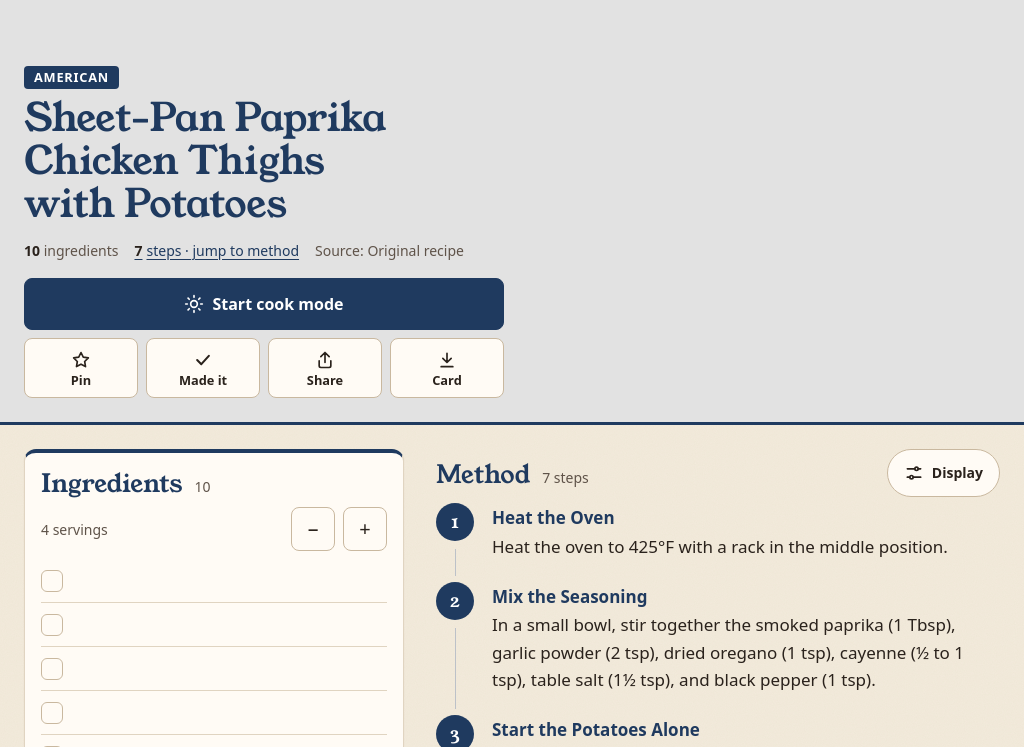
Test: RecipeView display settings › says step amounts are for the original recipe only while scaled with amounts on
Expected: the text "Amounts in steps are for the original recipe." is not shown
Click the button named "More servings".
click(365, 529)  # box x1=343 y1=507 x2=387 y2=551
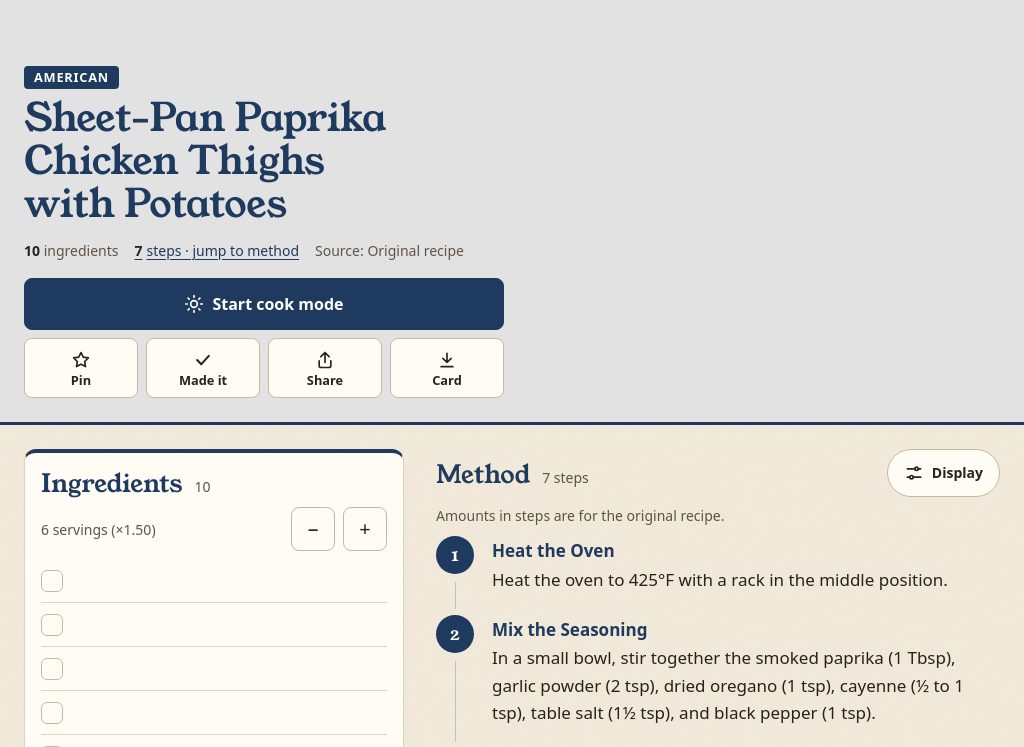
Expected: the text "Amounts in steps are for the original recipe." is shown, x1=436 y1=506 x2=724 y2=525
Click the button "Display".
click(943, 473)  # box x1=887 y1=449 x2=1000 y2=497
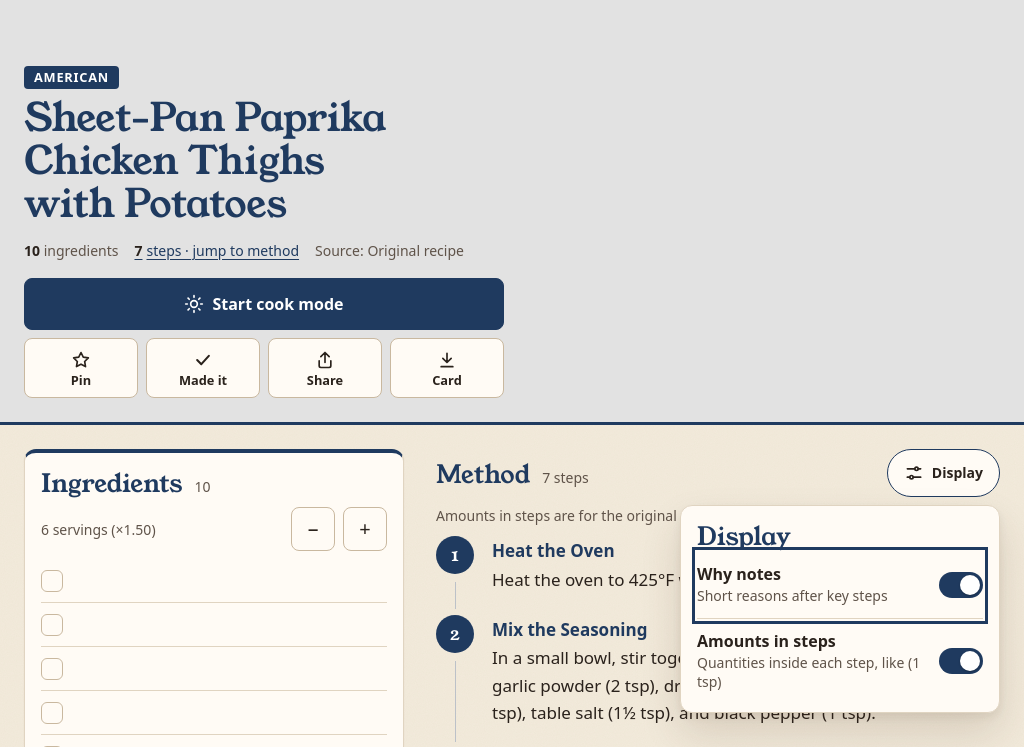
Click the switch labelled "Amounts in steps".
click(840, 661)  # box x1=697 y1=619 x2=983 y2=704
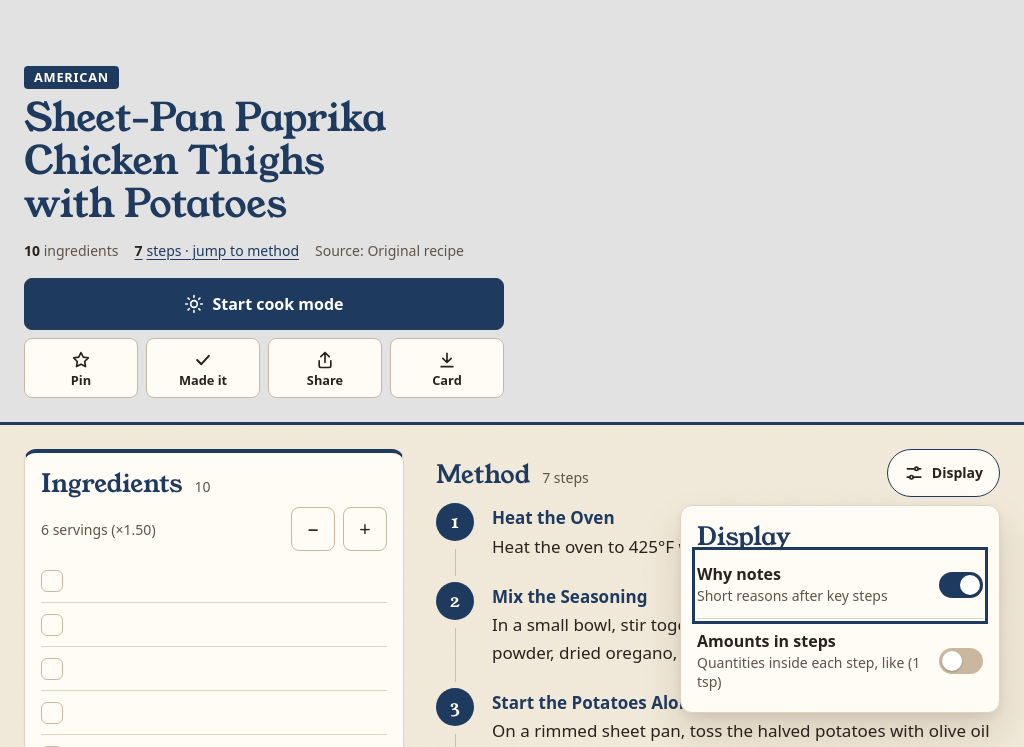
Expected: the text "Amounts in steps are for the original recipe." is gone
